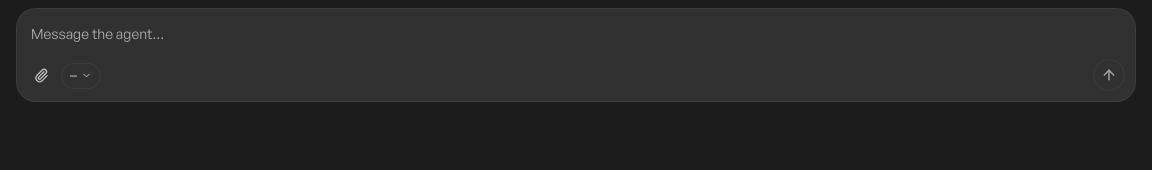
Test case: Composer › filters live as you type — "/mo" narrows to only /model
Type "/mo" into the text box with placeholder "Message the agent…".
click(576, 31); type("/mo")  # box [17, 9, 1135, 53]
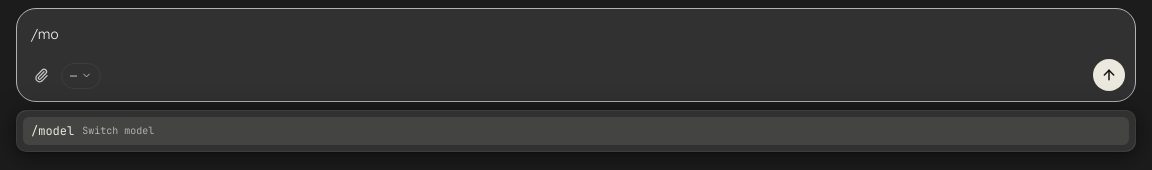
Now the 2nd text "/model" is shown, box [31, 123, 74, 139]
